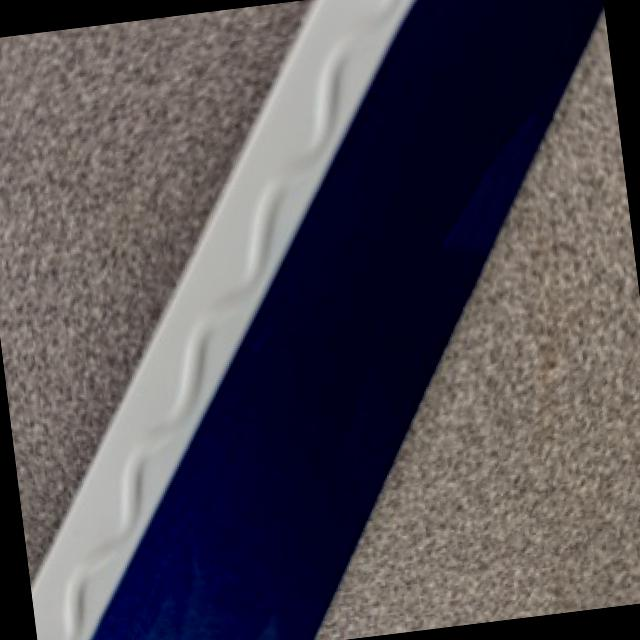healthy: (509, 528, 640, 605)
